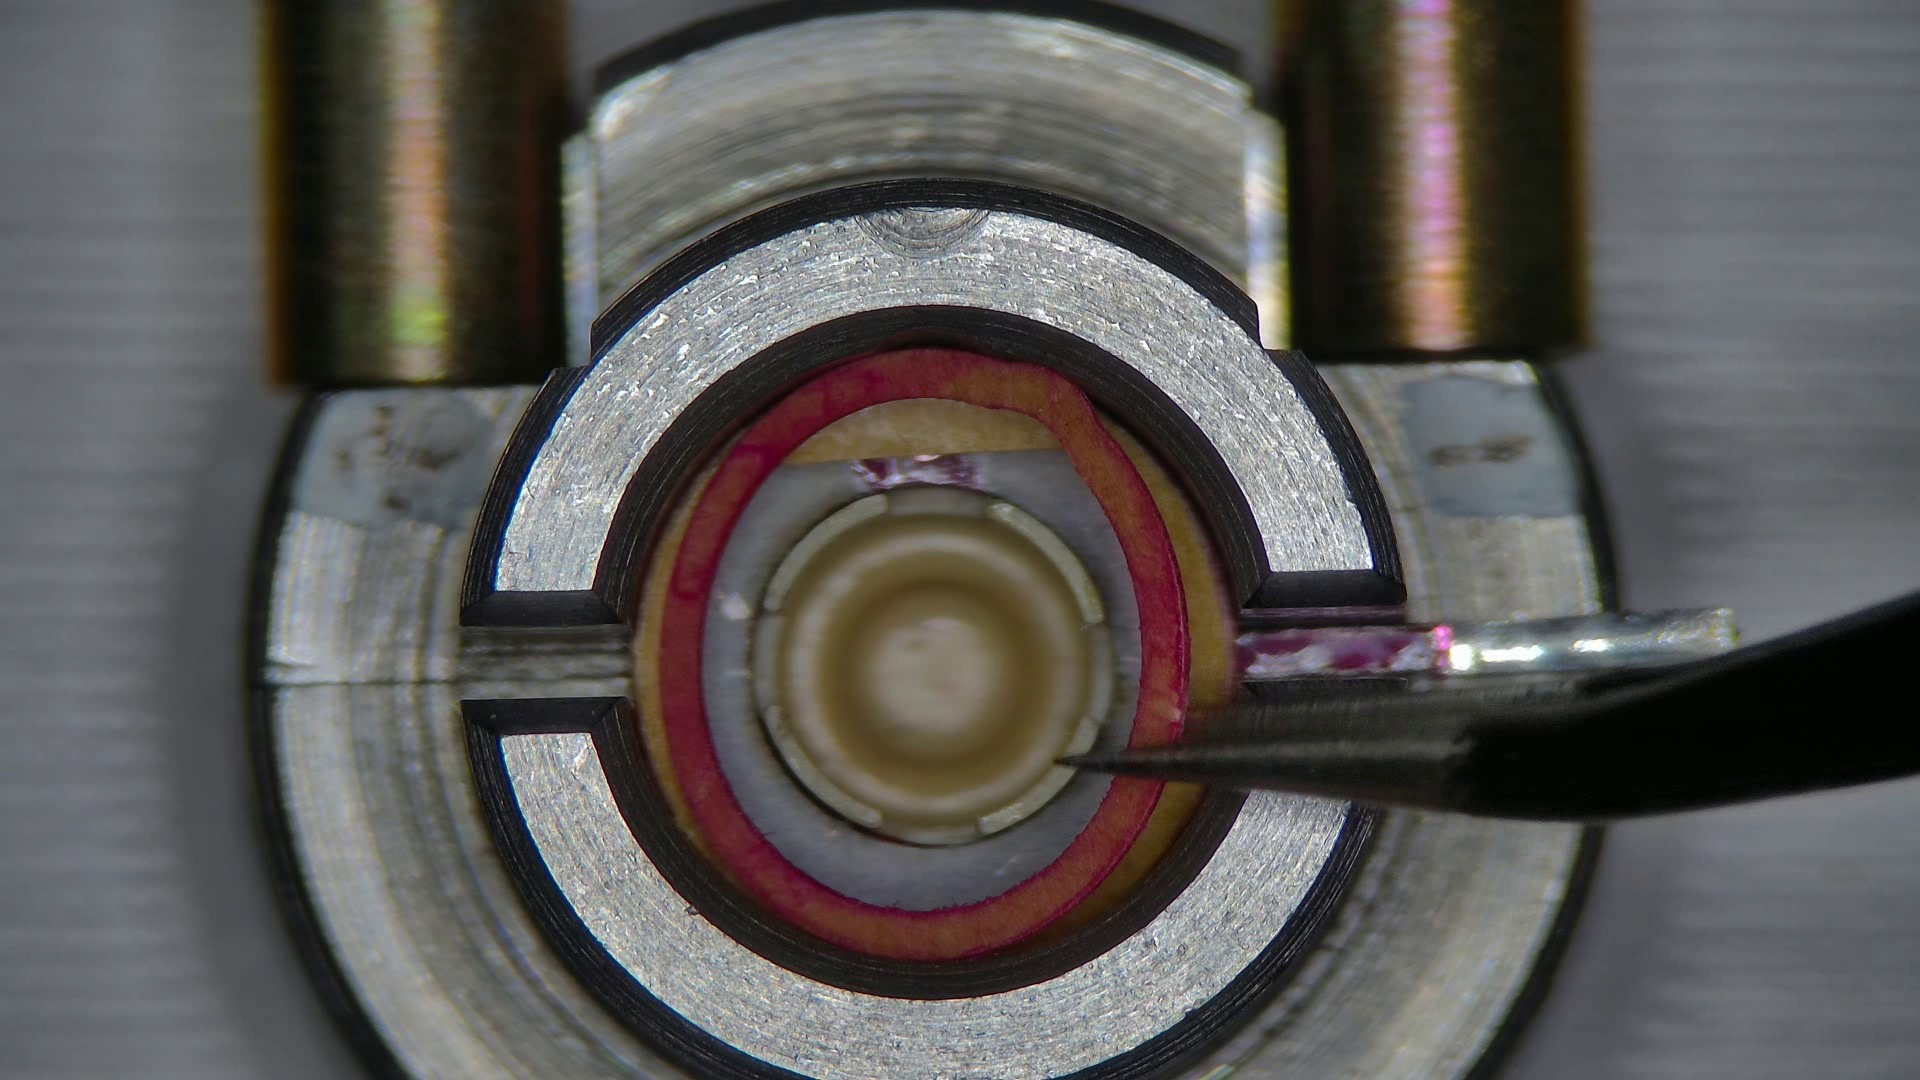GreyOring: (654, 345, 1196, 960)
YellowOring: (703, 452, 1139, 909)
redOring: (1131, 452, 1226, 705), (638, 525, 698, 832), (785, 398, 1062, 462), (1073, 786, 1197, 926)
